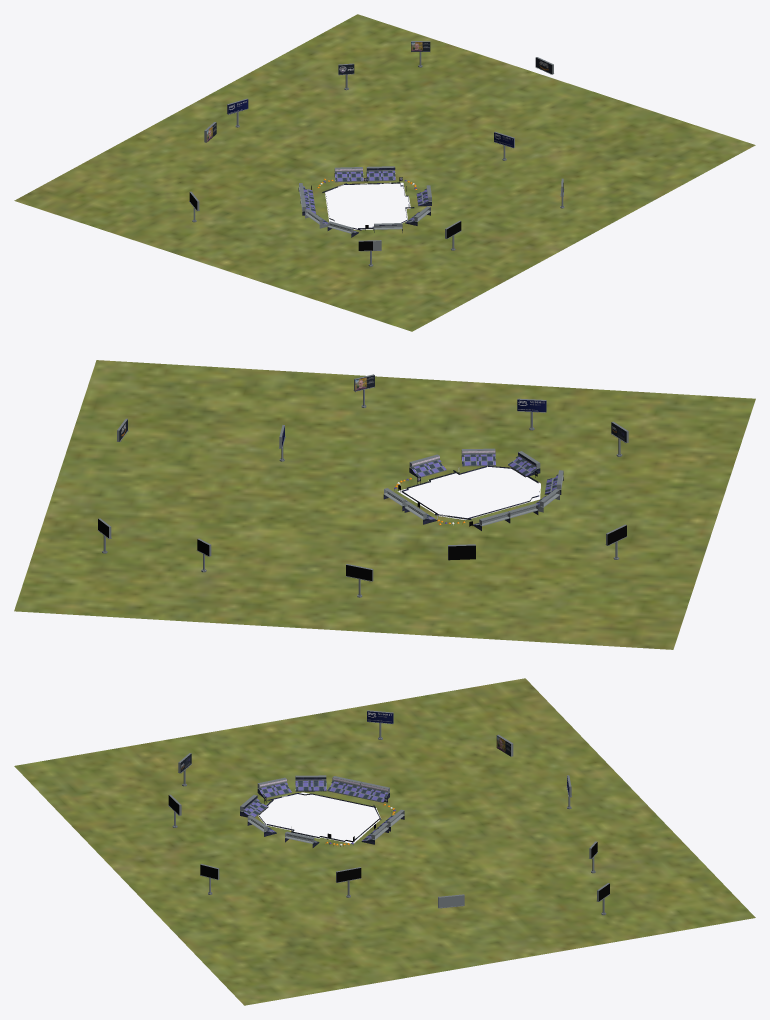
File: background.dae
3 views of the same model, one above another, from view 1: azimuth 30°, elevation 25°; view 2: azimuth 150°, elevation 25°; view 3: azimuth 270°, elevation 25° (orthographic). The views are drawn at different scales.
Visible parts, largest first — view 1: grandstand; view 2: grandstand; view 3: grandstand.
Boxes of the visible parts, x1=… form: grandstand: x1=14, y1=14, x2=755, y2=331; grandstand: x1=14, y1=360, x2=755, y2=649; grandstand: x1=14, y1=678, x2=755, y2=1005.
Size of the model in its own units: 150 by 144 by 10.21.
1 material, 1 textured.
